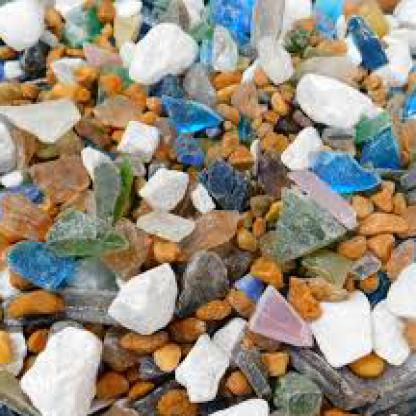Metamorphic_Marble: (135, 159, 185, 210), (146, 336, 185, 374), (246, 254, 287, 286)
